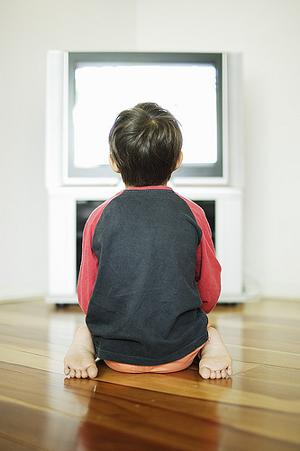person: (64, 101, 234, 382)
